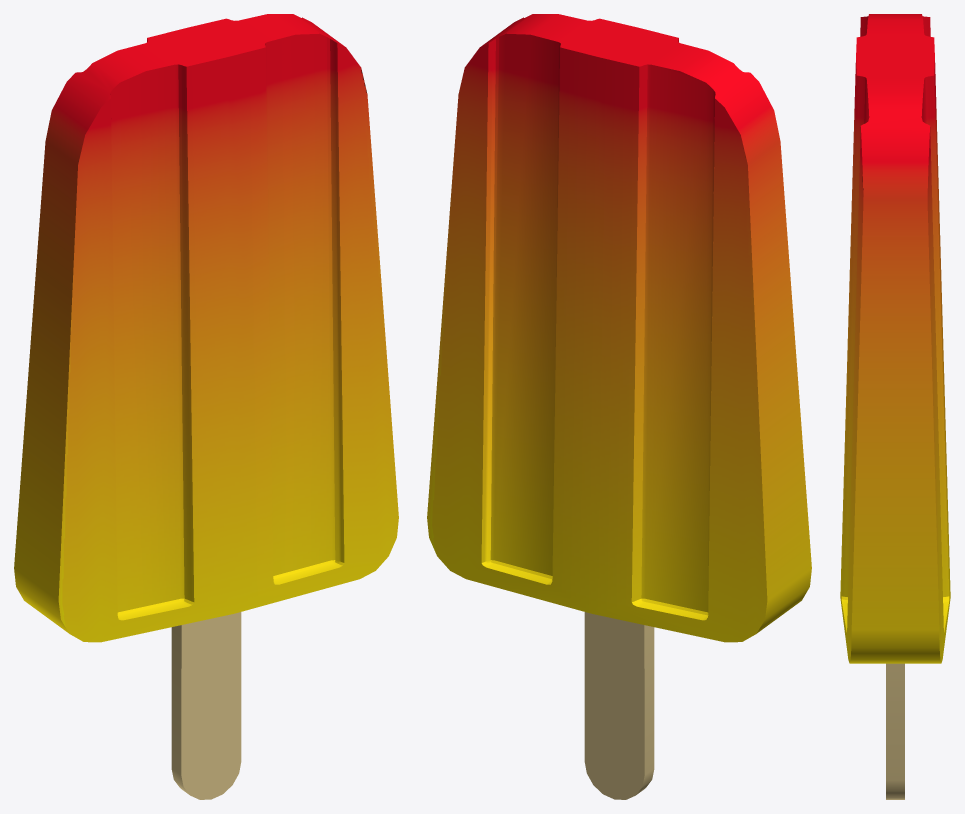
The model's file is popsicle.fbx.
3 renders of one model, left to right at view 1: azimuth 30°, elevation 25°; view 2: azimuth 150°, elevation 25°; view 3: azimuth 270°, elevation 25°, orthographic.
Visible parts, largest first — view 1: popsicle; view 2: popsicle; view 3: popsicle.
Part boxes in pixels (x1,y1,x2,y2): popsicle: [14, 14, 398, 799]; popsicle: [427, 14, 811, 799]; popsicle: [840, 14, 950, 799].
Size of the model in its own units: 0.4205 by 0.8892 by 0.1201.
Materials: 1 (1 with a texture image).
